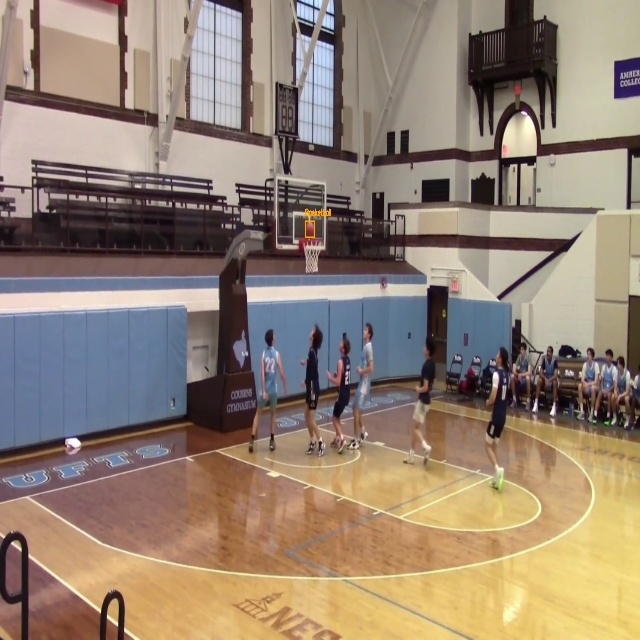Basketball: (305, 221, 315, 237)
